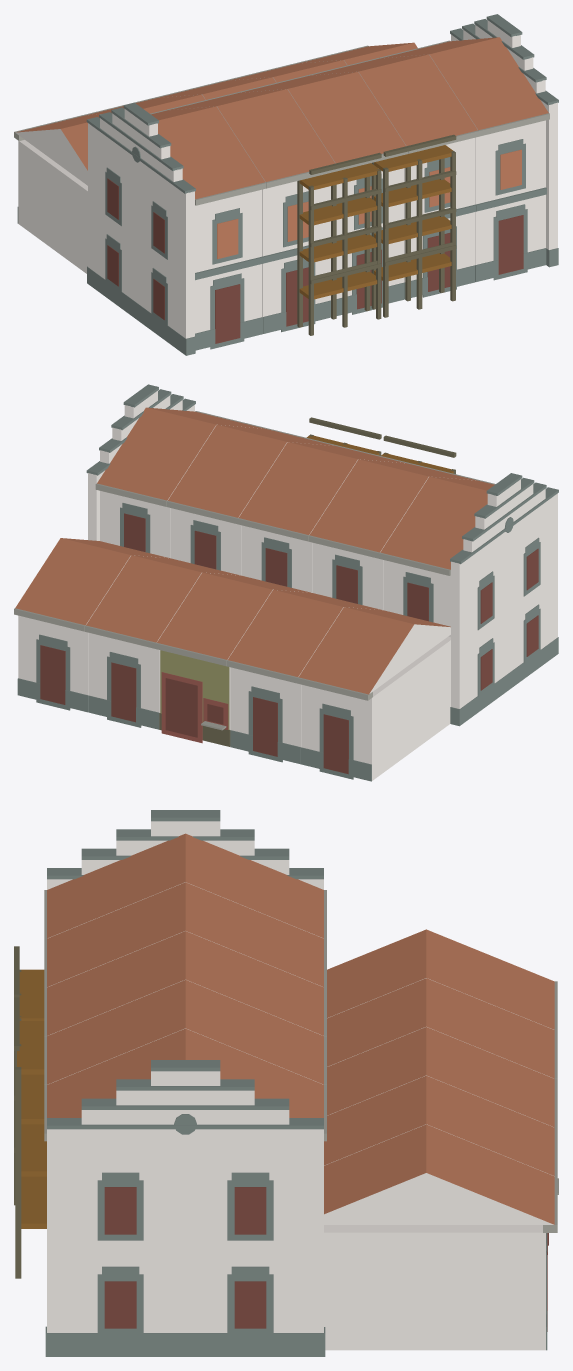
File: SM_EdificioViajerosNules_v4_Liberada_LOD1.fbx
3 views of the same model, one above another, from view 1: azimuth 30°, elevation 25°; view 2: azimuth 150°, elevation 25°; view 3: azimuth 270°, elevation 25° (orthographic). The views are drawn at different scales.
Parts seen in each view (by area): view 1: SM_edificio_viajeros_nules_v4_LOD1; view 2: SM_edificio_viajeros_nules_v4_LOD1; view 3: SM_edificio_viajeros_nules_v4_LOD1.
Boxes of the visible parts, bbox=[...] form: SM_edificio_viajeros_nules_v4_LOD1: bbox=[14, 14, 558, 355]; SM_edificio_viajeros_nules_v4_LOD1: bbox=[14, 384, 558, 781]; SM_edificio_viajeros_nules_v4_LOD1: bbox=[14, 810, 558, 1356].
Bounding box in the file's own units: 21.12 × 11.24 × 18.9.
